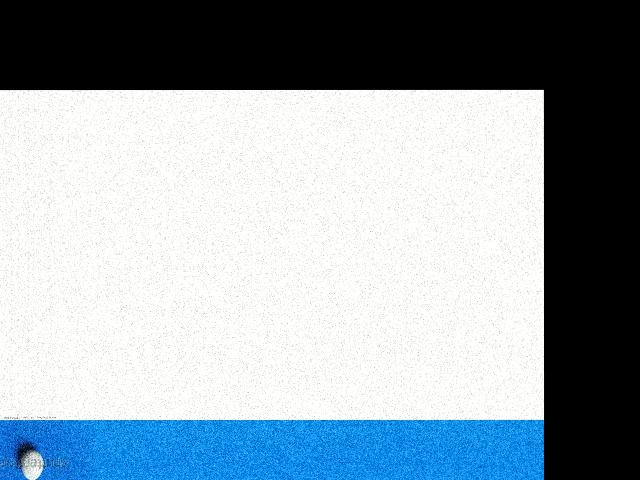egg: (20, 449, 42, 480)
